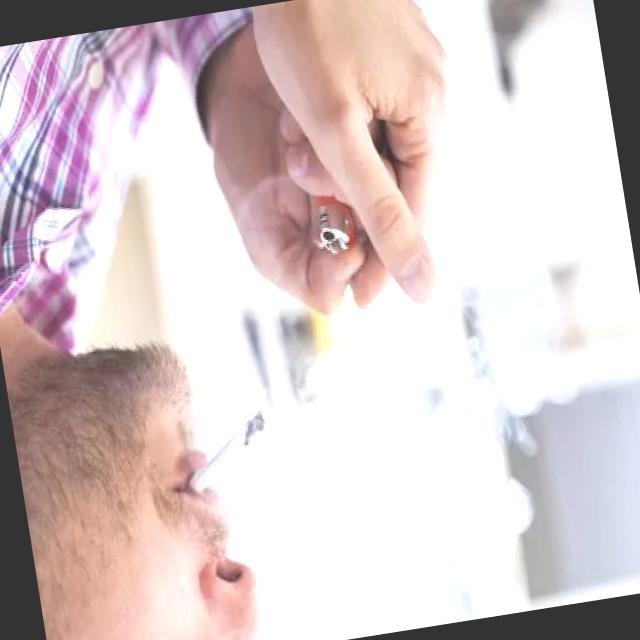cigarette: (178, 406, 281, 496)
